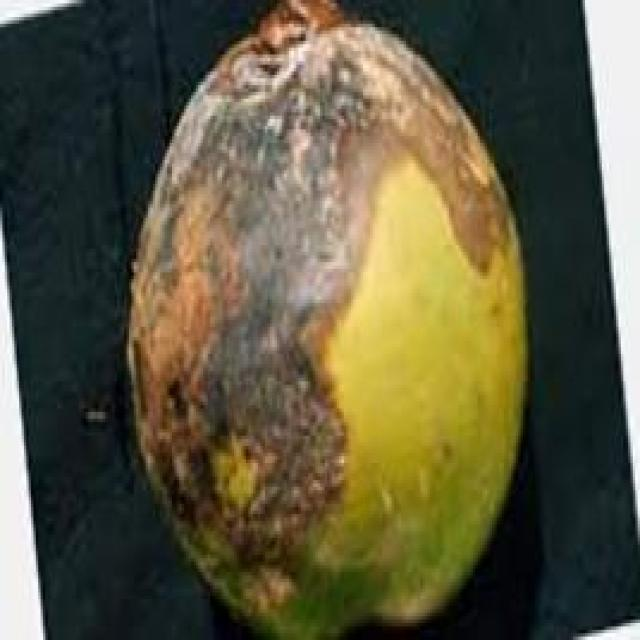damaged: (105, 0, 533, 637)
